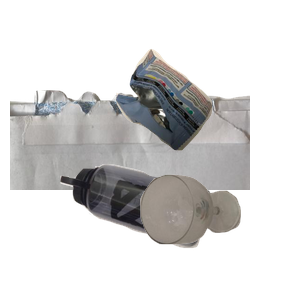glass: (138, 172, 300, 300)
paper: (10, 84, 250, 264)
plastic: (58, 162, 261, 300)
trash: (113, 46, 300, 189)
